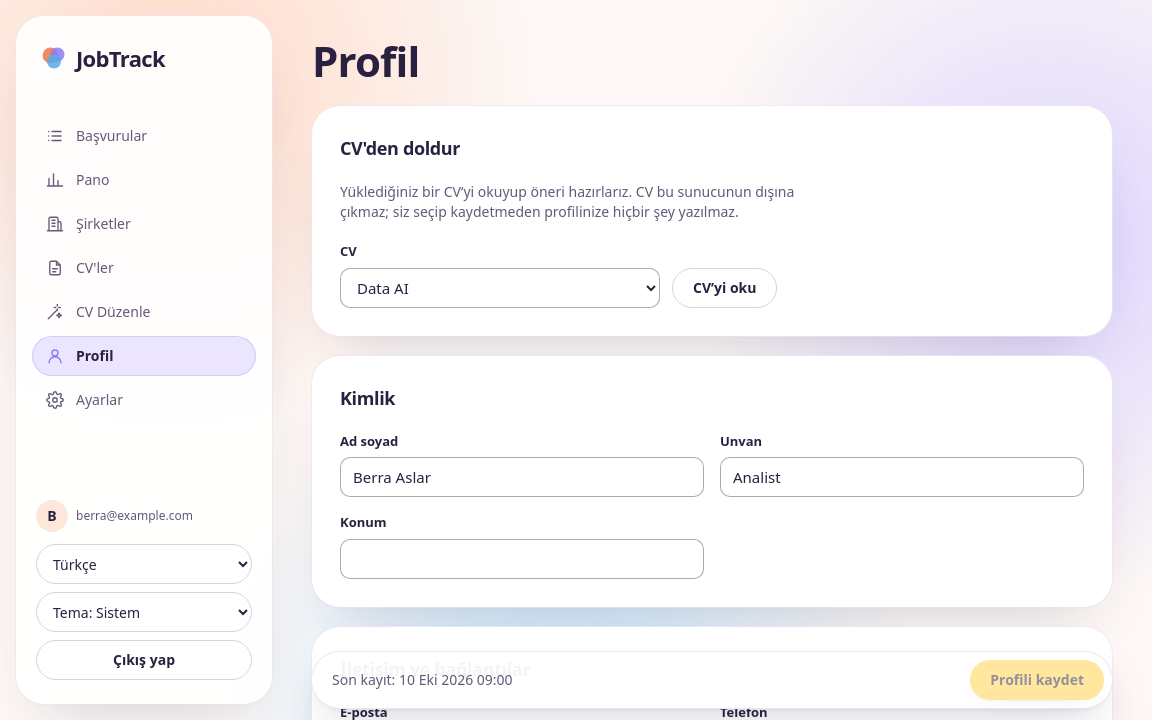
Test case: CV'den doldur (FR-21) › ayrıştırıcı kapalıysa hatayı gösterir, formu değiştirmez
Click the button "CV’yi oku" at (725, 288), box [672, 268, 778, 308]
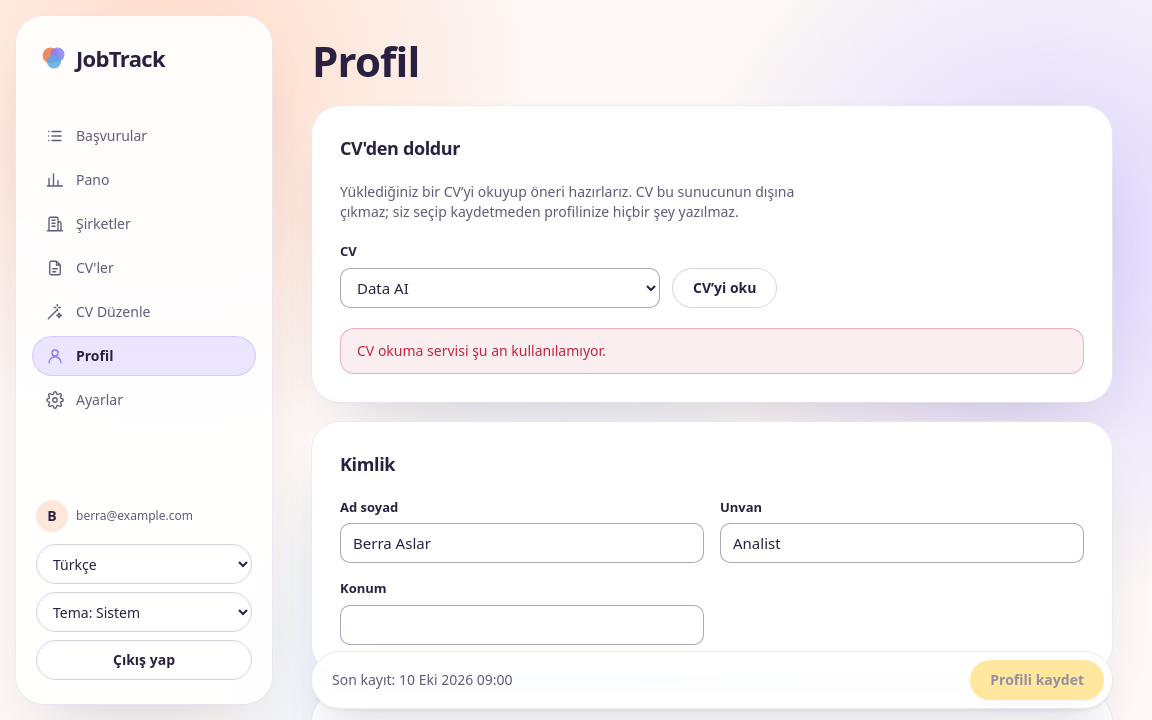
Expected: the text "CV okuma servisi şu an kullanılamıyor." is shown, [340, 328, 1084, 374]
